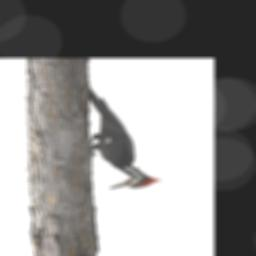Woodpecker: (89, 85, 162, 189)
